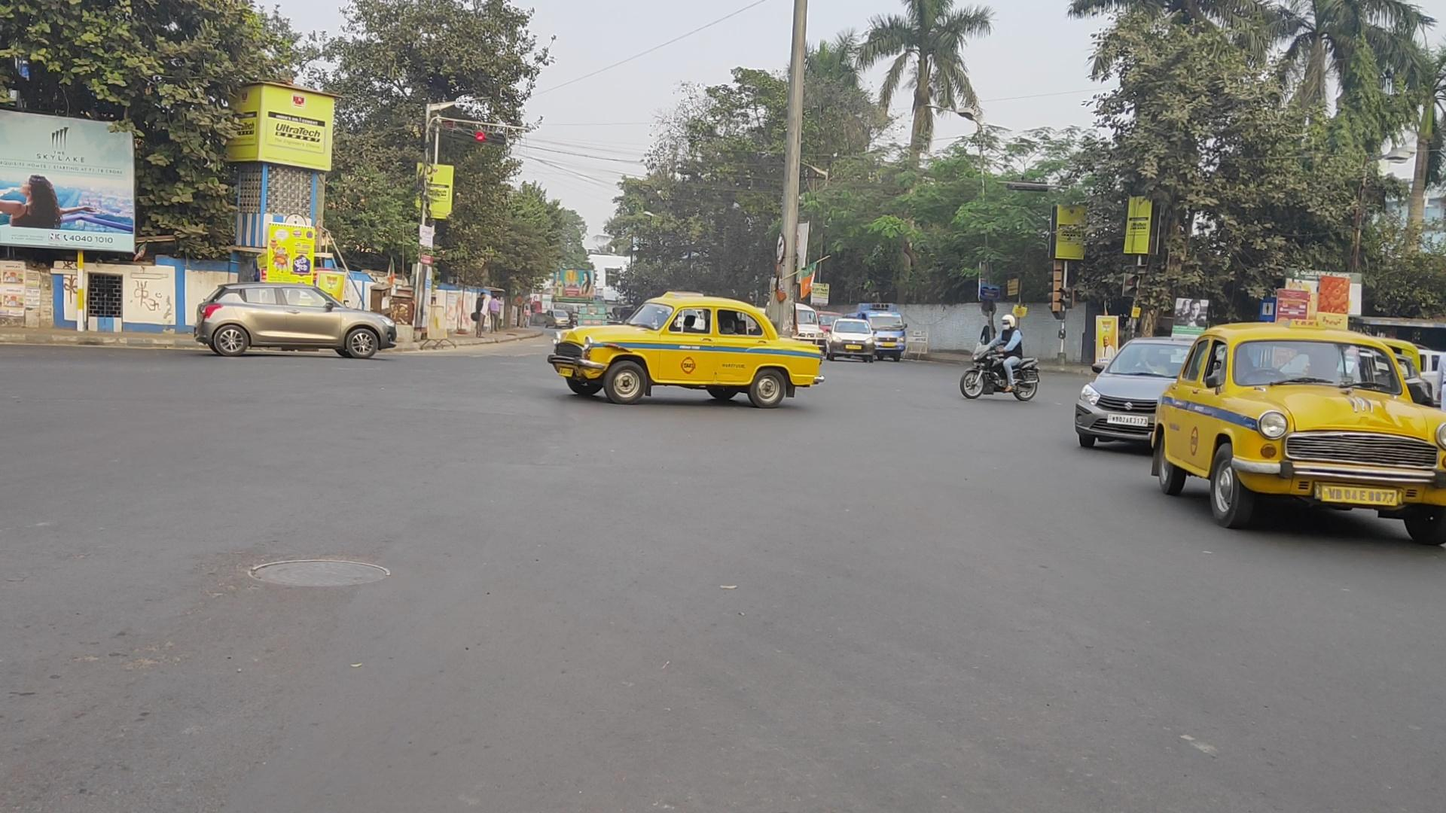bike: (959, 314, 1042, 401)
car: (1152, 318, 1446, 546), (548, 291, 824, 408), (195, 281, 398, 361), (1074, 335, 1211, 452), (765, 300, 827, 358), (824, 318, 876, 364)
van: (849, 303, 908, 364)
